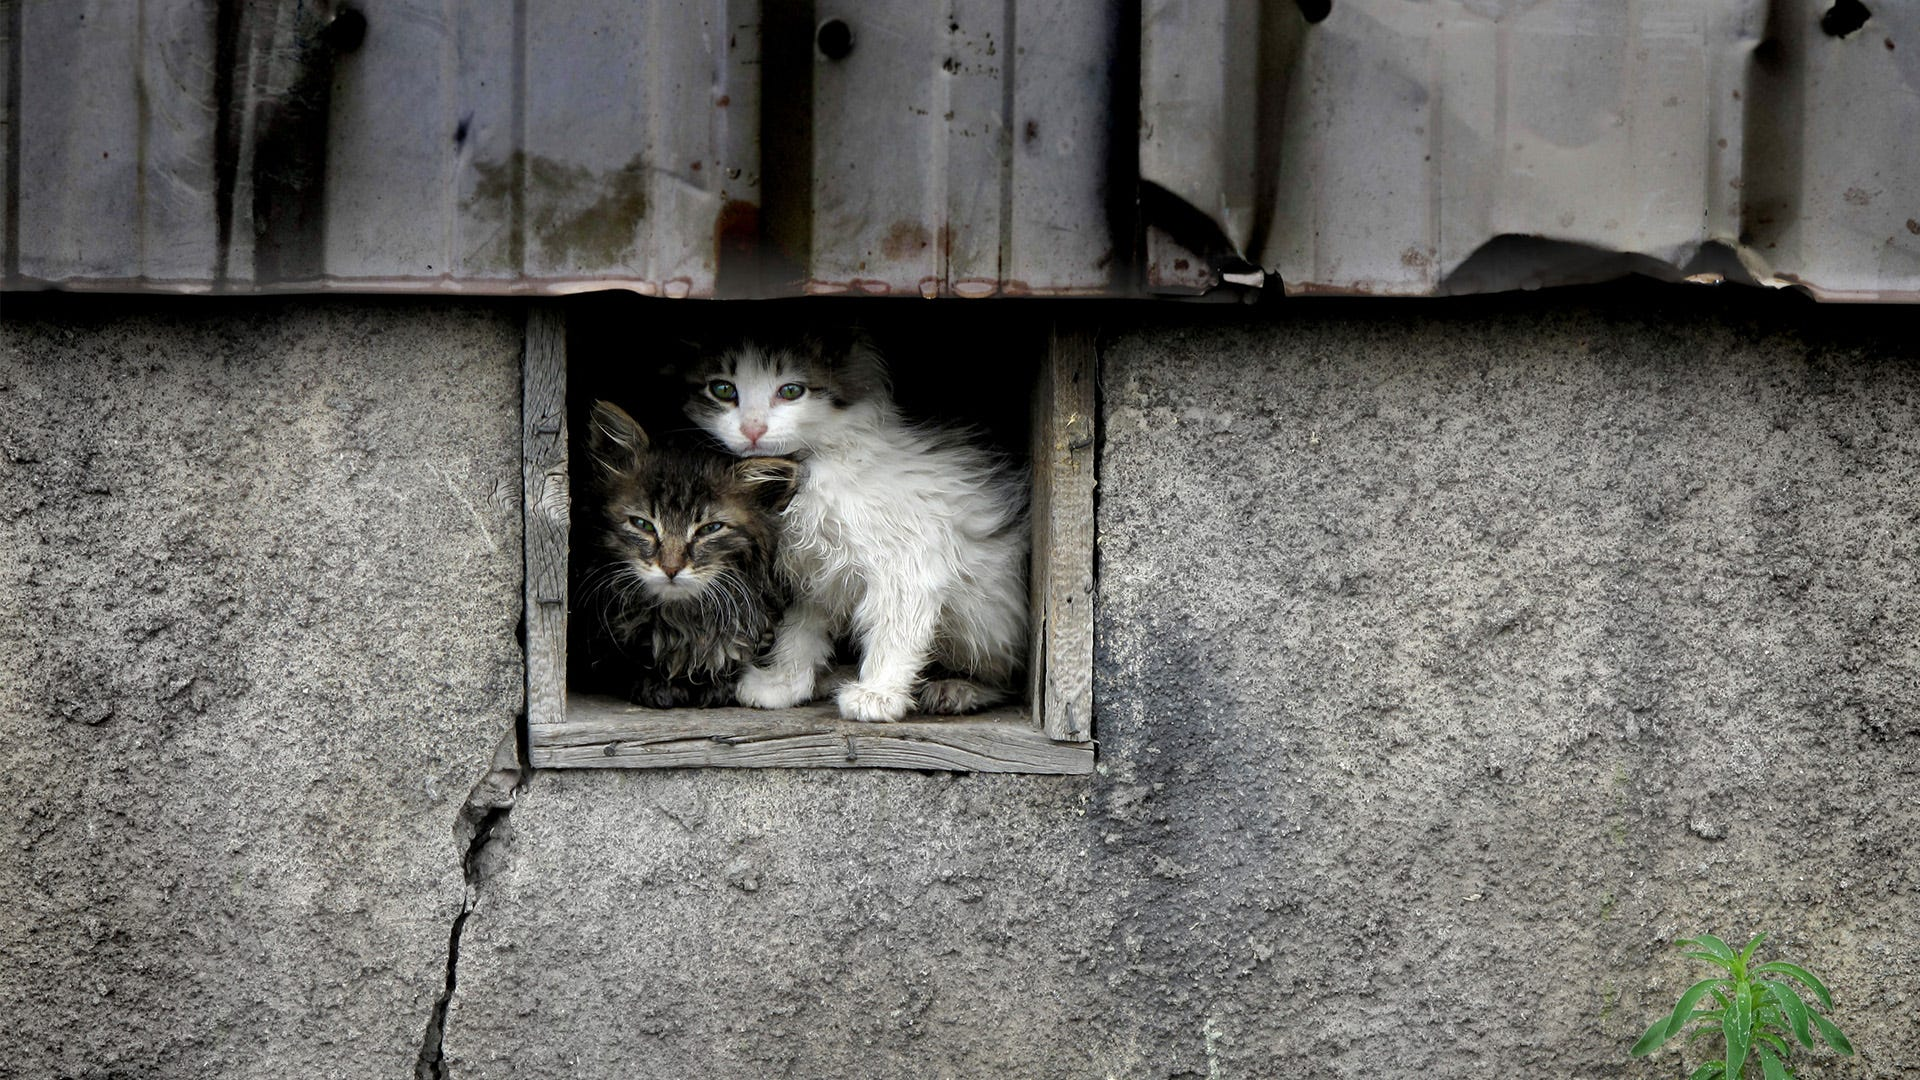Cat: (607, 430, 771, 626), (686, 330, 887, 465)
